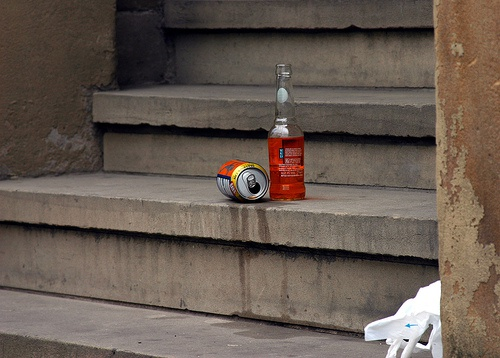emptybottle: (268, 64, 306, 200)
